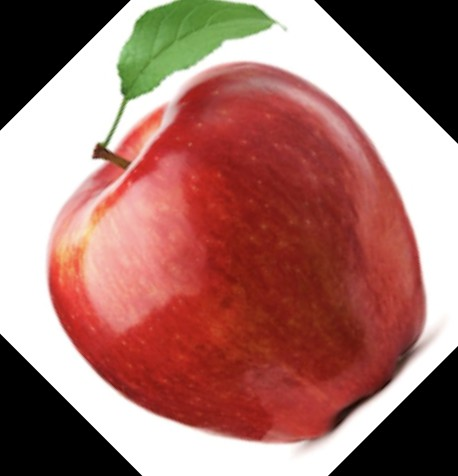fresh_apple: (48, 64, 429, 442)
